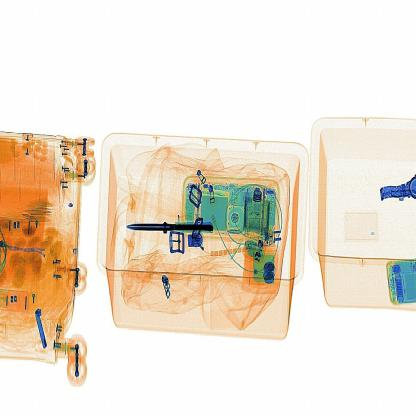gun: (123, 214, 217, 244)
